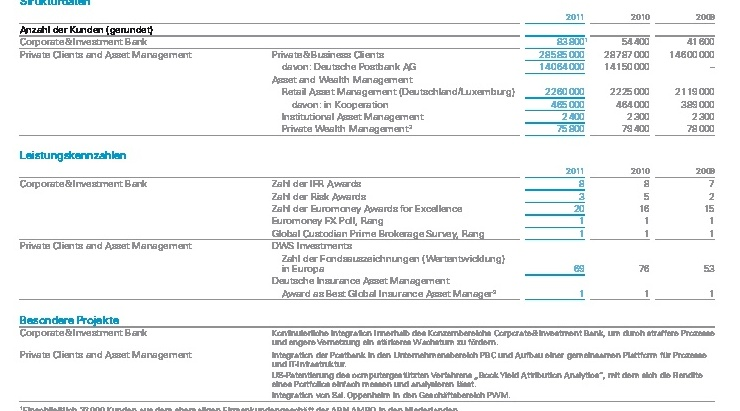table: (0, 0, 740, 411)
